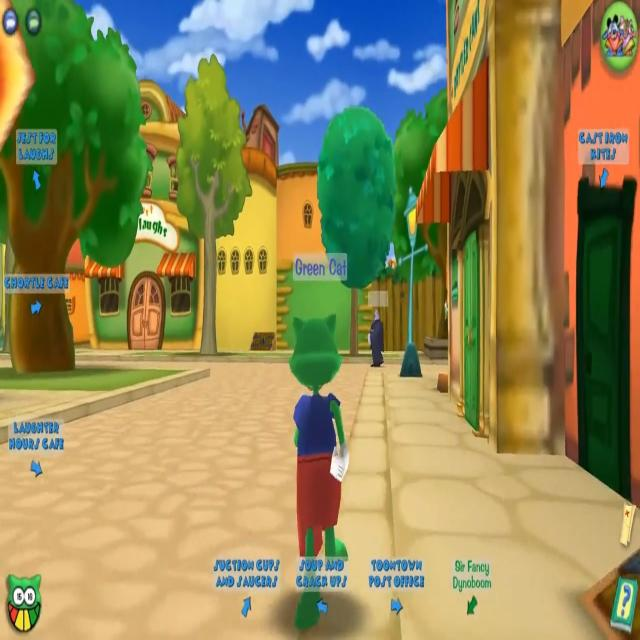bottomfeeder: (362, 288, 395, 375)
